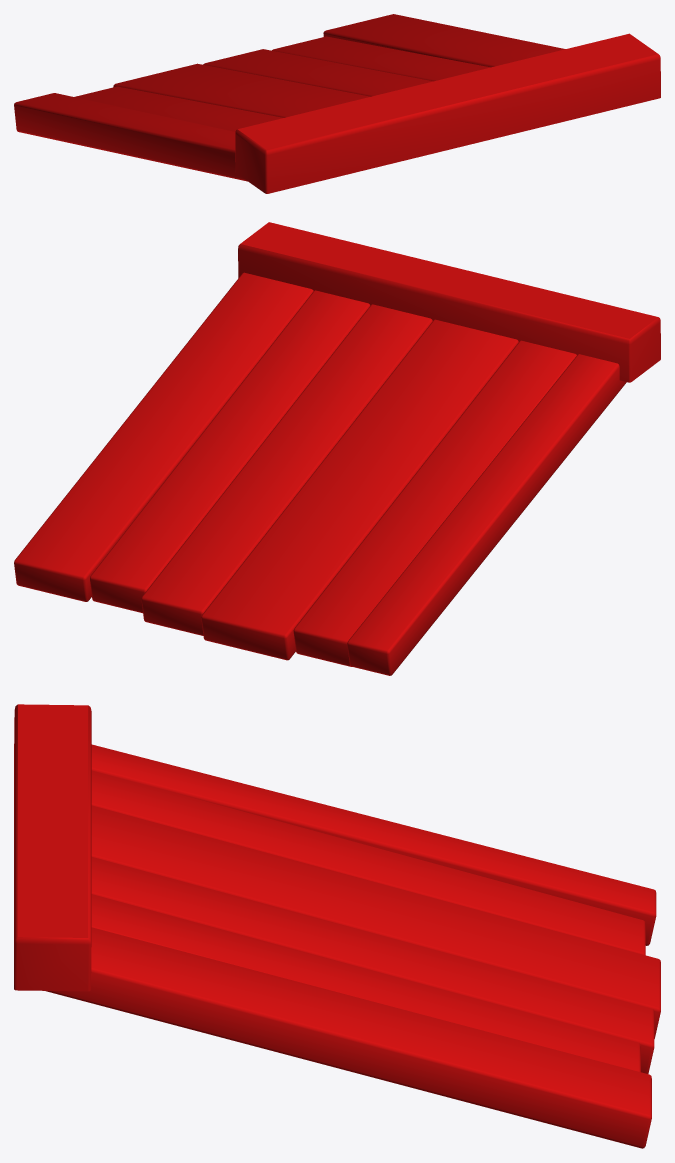
The model's file is Barn@Roof.fbx.
3 views of the same model, one above another, from view 1: azimuth 30°, elevation 25°; view 2: azimuth 150°, elevation 25°; view 3: azimuth 270°, elevation 25° (orthographic). The views are drawn at different scales.
Parts seen in each view (by area): view 1: Roof; view 2: Roof; view 3: Roof.
Boxes of the visible parts, x1,y1,x2,y2 form: Roof: (14,14,660,193); Roof: (14,222,660,675); Roof: (14,704,660,1148).
Bounding box in the file's own units: 172 × 75.67 × 200.
